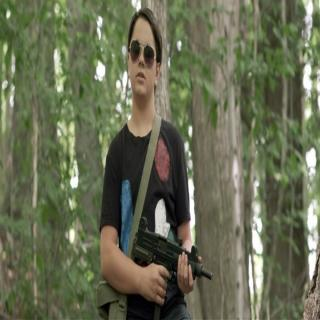gun: (128, 213, 214, 319)
